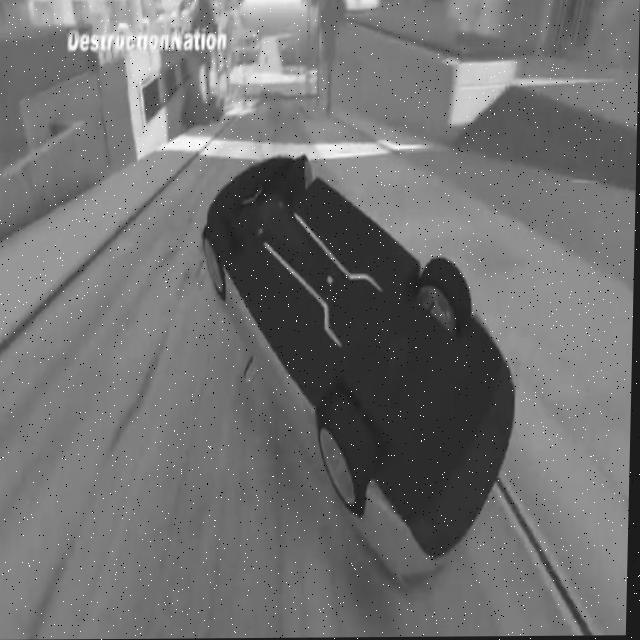single accident: (159, 96, 524, 606)
